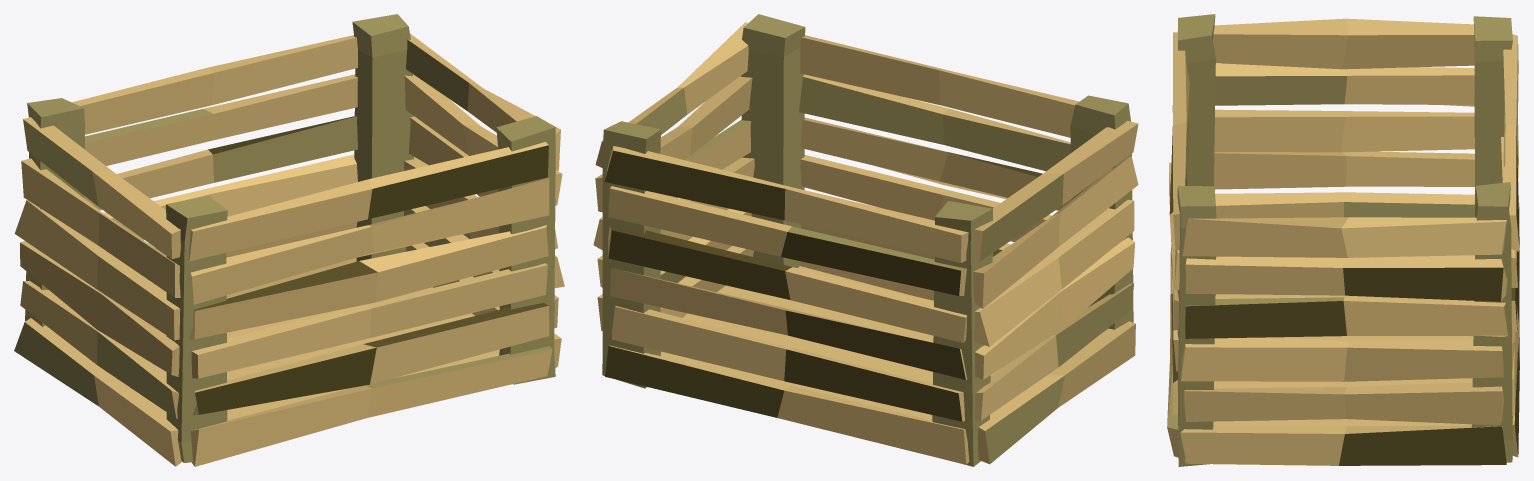
File: BoxOpen.fbx
The picture shows the model from 3 angles, left to right: view 1: azimuth 30°, elevation 25°; view 2: azimuth 150°, elevation 25°; view 3: azimuth 270°, elevation 25°; orthographic projection. The views are drawn at different scales.
Visible parts, largest first — view 1: BoxOpen; view 2: BoxOpen; view 3: BoxOpen.
Part boxes in pixels (bbox=[...]): BoxOpen: bbox=[14, 14, 564, 466]; BoxOpen: bbox=[593, 14, 1138, 466]; BoxOpen: bbox=[1167, 14, 1519, 466].
Size of the model in its own units: 101 by 61.23 by 74.29.
